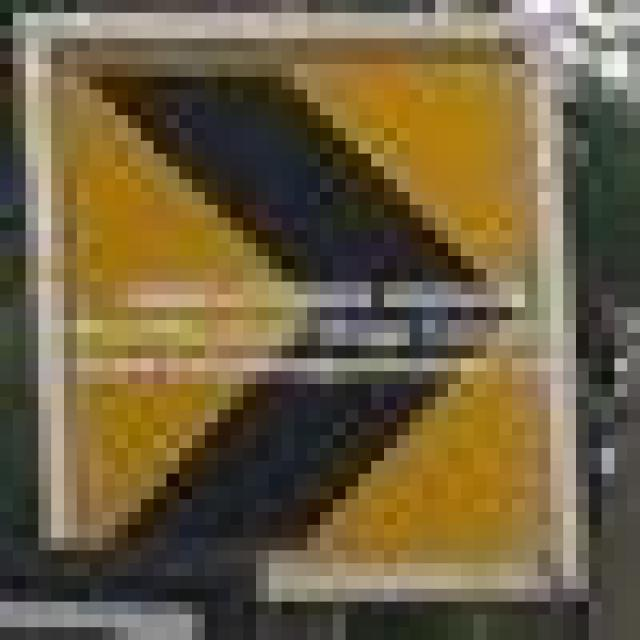DIRECTION: (48, 23, 556, 579)
